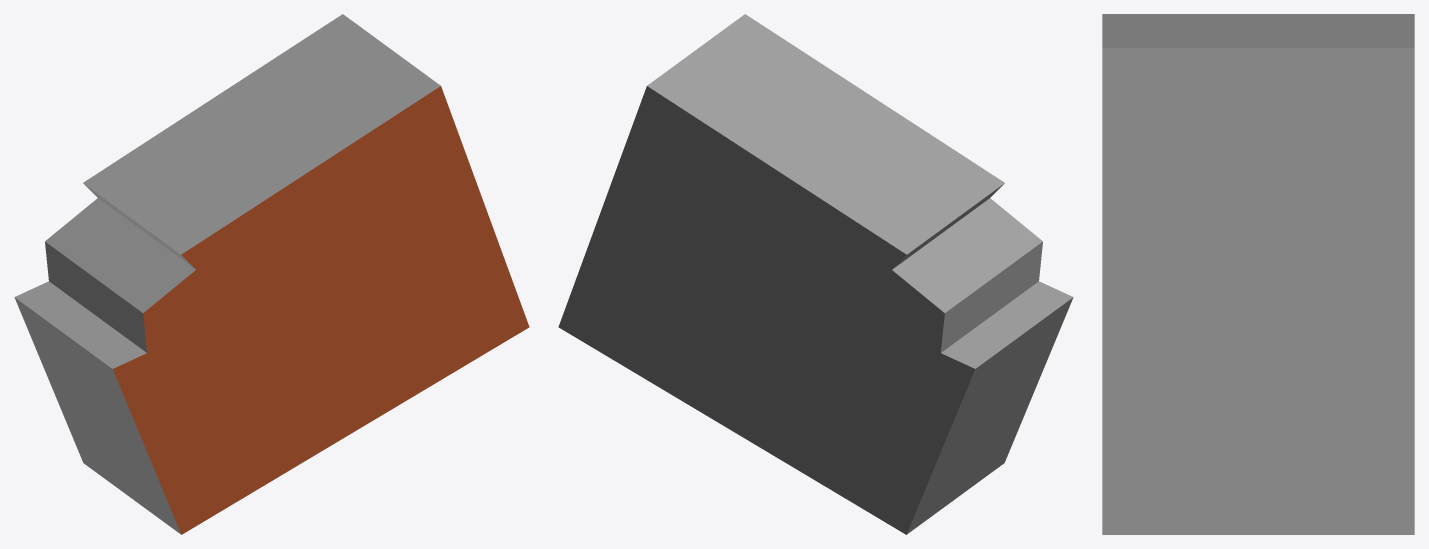
The model's file is construction_2257_assumed_A_Casa_h6m.obj.
The picture shows the model from 3 angles, left to right: view 1: azimuth 30°, elevation 25°; view 2: azimuth 150°, elevation 25°; view 3: azimuth 270°, elevation 25°; orthographic projection. The views are drawn at different scales.
Parts seen in each view (by area): view 1: construction_2257_assumed_A_Casa; view 2: construction_2257_assumed_A_Casa; view 3: construction_2257_assumed_A_Casa.
Part boxes in pixels (box(x1,y1,x2,y2)): construction_2257_assumed_A_Casa: box(14, 14, 529, 534); construction_2257_assumed_A_Casa: box(558, 14, 1073, 534); construction_2257_assumed_A_Casa: box(1102, 14, 1414, 534).
Bounding box in the file's own units: 14.71 × 13 × 6.
